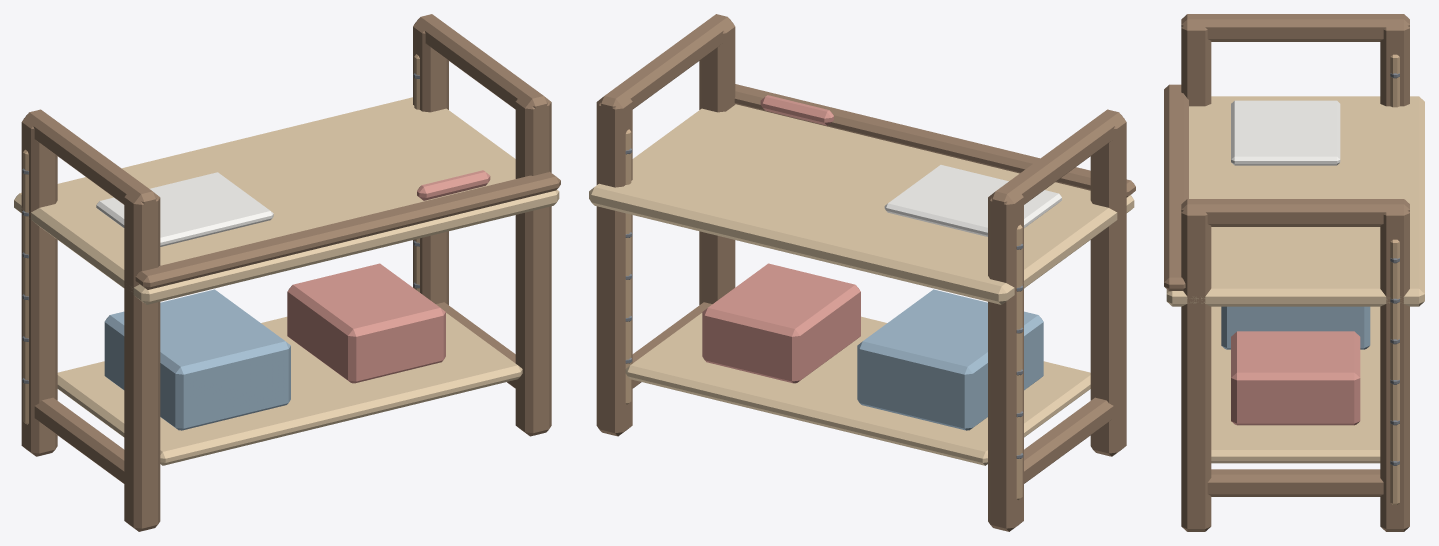
The model's file is GrowingDesk.glb.
3 views of the same model, side by side, from view 1: azimuth 30°, elevation 25°; view 2: azimuth 150°, elevation 25°; view 3: azimuth 270°, elevation 25° (orthographic). The views are drawn at different scales.
Visible parts, largest first — view 1: GrowingDesk_Frame, GrowingDesk_Top; view 2: GrowingDesk_Frame, GrowingDesk_Top; view 3: GrowingDesk_Frame, GrowingDesk_Top.
Part boxes in pixels (x1=…): GrowingDesk_Frame: x1=21, y1=14, x2=551, y2=531; GrowingDesk_Top: x1=14, y1=97, x2=560, y2=304; GrowingDesk_Frame: x1=596, y1=14, x2=1126, y2=531; GrowingDesk_Top: x1=589, y1=84, x2=1135, y2=304; GrowingDesk_Frame: x1=1181, y1=14, x2=1409, y2=531; GrowingDesk_Top: x1=1164, y1=84, x2=1424, y2=306.
Size of the model in its own units: 0.955 by 0.725 by 0.525.
